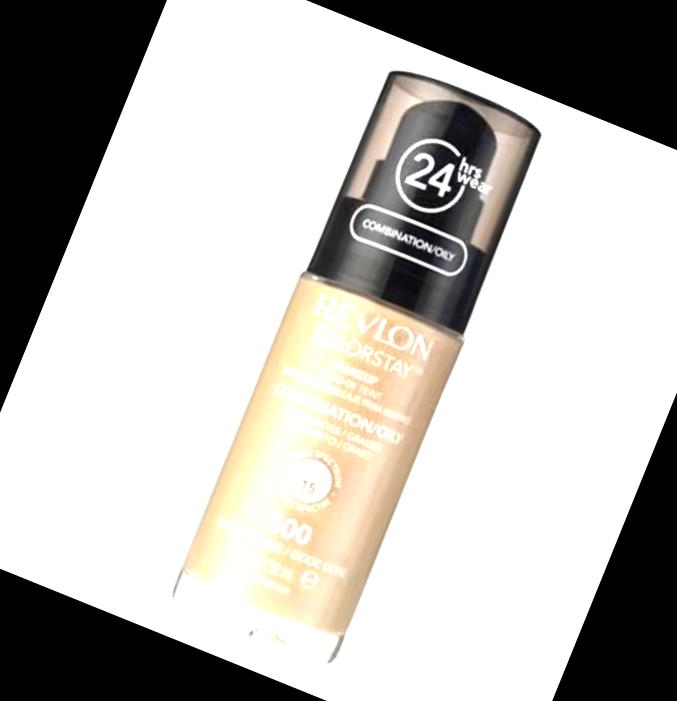cosmetic: (167, 59, 554, 667)
